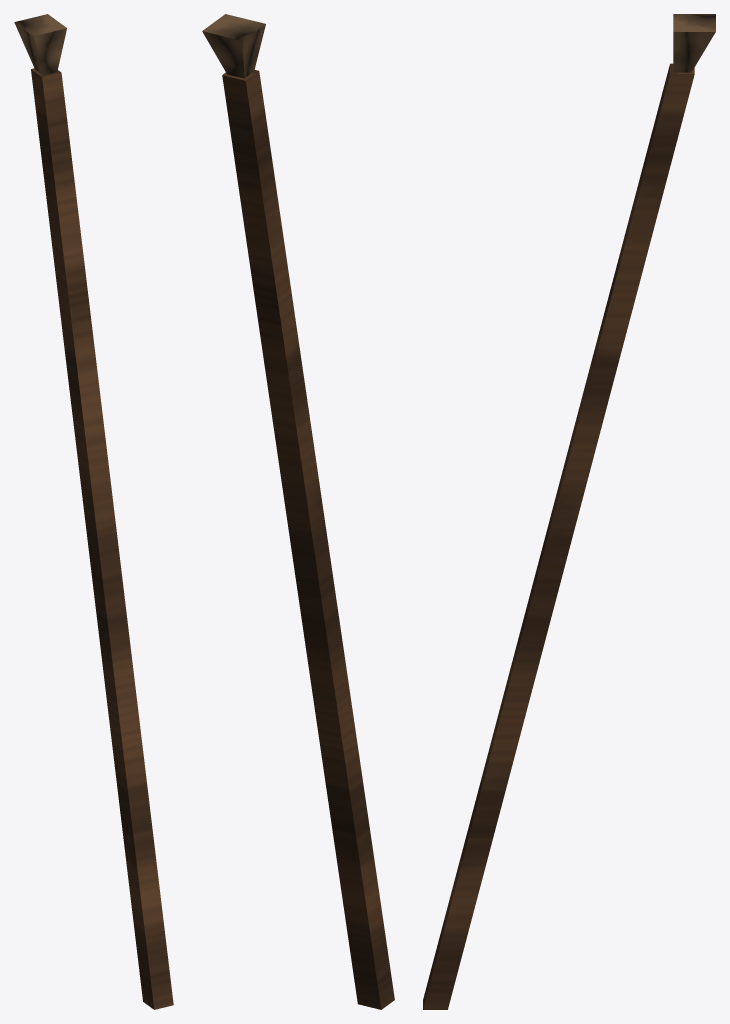
The model's file is walking_cane.fbx.
3 renders of one model, left to right at view 1: azimuth 30°, elevation 25°; view 2: azimuth 150°, elevation 25°; view 3: azimuth 270°, elevation 25°, orthographic. The views are drawn at different scales.
Parts seen in each view (by area): view 1: walking_cane; view 2: walking_cane; view 3: walking_cane.
Part boxes in pixels (bbox=[...]): walking_cane: bbox=[14, 14, 173, 1009]; walking_cane: bbox=[202, 14, 394, 1009]; walking_cane: bbox=[423, 14, 715, 1009].
Size of the model in its own units: 3.8 by 96.5 by 26.08.
